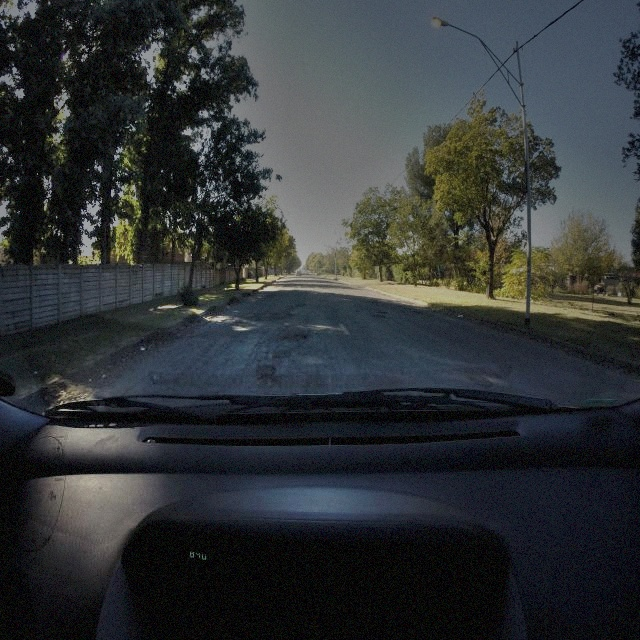pothole: (255, 360, 278, 381), (270, 310, 295, 321), (283, 331, 307, 342), (372, 310, 389, 320)
